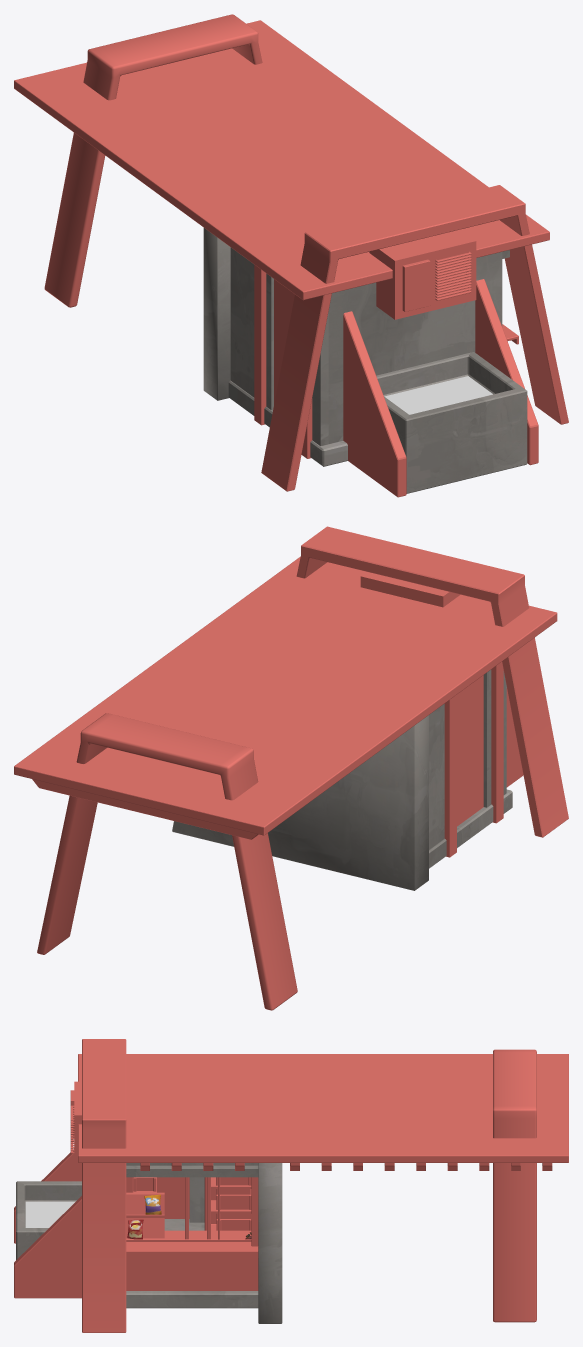
Rendered from MESH_Kiosk.fbx.
3 renders of one model, top to bottom at view 1: azimuth 30°, elevation 25°; view 2: azimuth 150°, elevation 25°; view 3: azimuth 270°, elevation 25°, orthographic. The views are drawn at different scales.
Parts seen in each view (by area): view 1: kioskuv2, kioskUV1, plantpot; view 2: kioskuv2, kioskUV1; view 3: kioskuv2, kioskUV1, plantpot.
Part boxes in pixels (x1,y1,x2,y2): kioskuv2: (14, 20, 568, 491); kioskUV1: (44, 14, 538, 497); plantpot: (376, 352, 527, 493); kioskuv2: (14, 526, 568, 837); kioskUV1: (32, 572, 523, 1010); kioskuv2: (78, 1039, 568, 1332); kioskUV1: (14, 1049, 552, 1323); plantpot: (16, 1181, 81, 1259).
Size of the model in its own units: 406 by 317 by 815.
